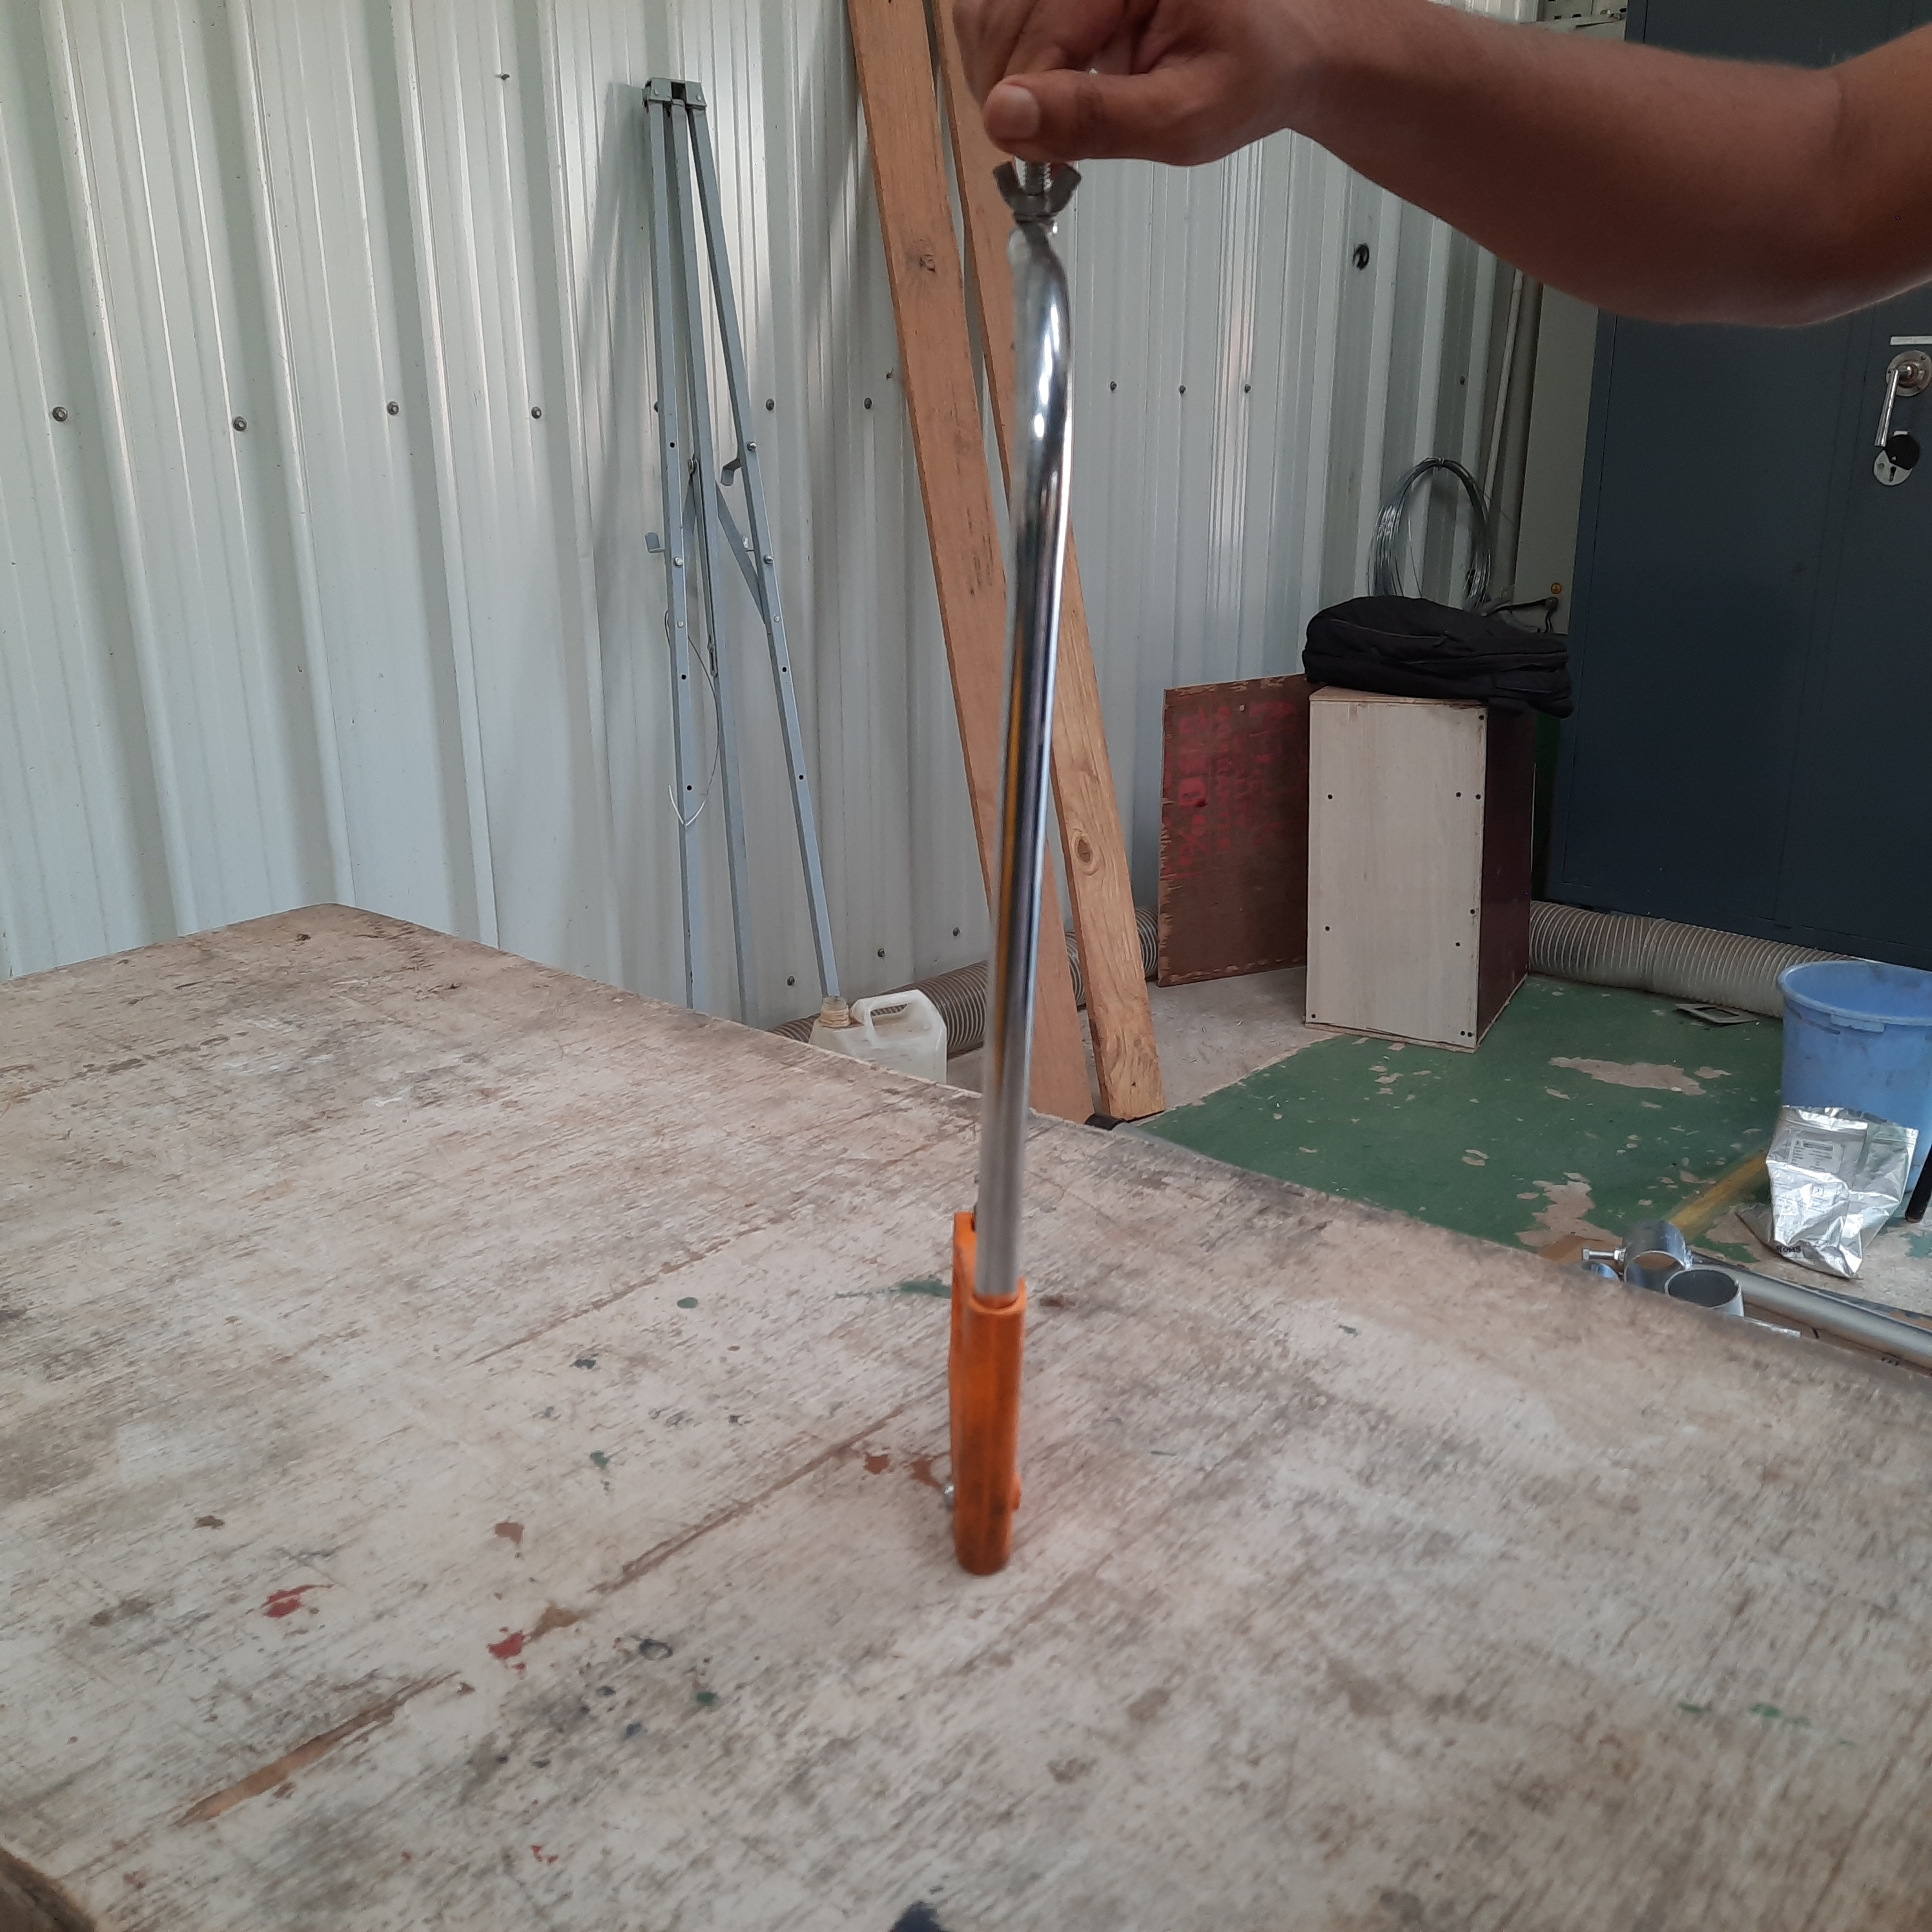Hexaframe: (927, 143, 1115, 1605)
